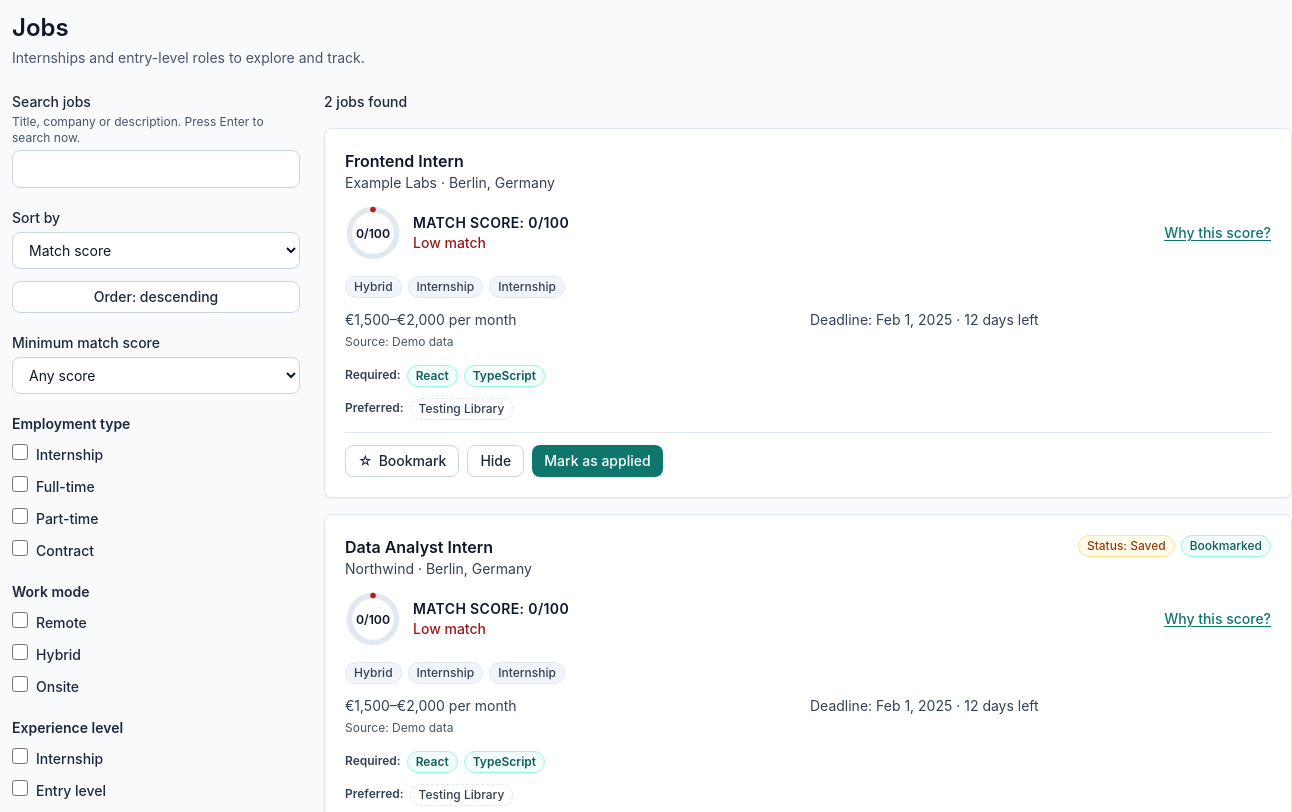
Test case: JobsPage › shows the envelope message when marking as applied returns 409
The width and height of the screenshot is (1292, 812).
Expected: the element "Frontend Intern" is shown, [324,128,1291,498]
Click the button "Mark as applied": {"x": 597, "y": 461} [532,445,663,477]
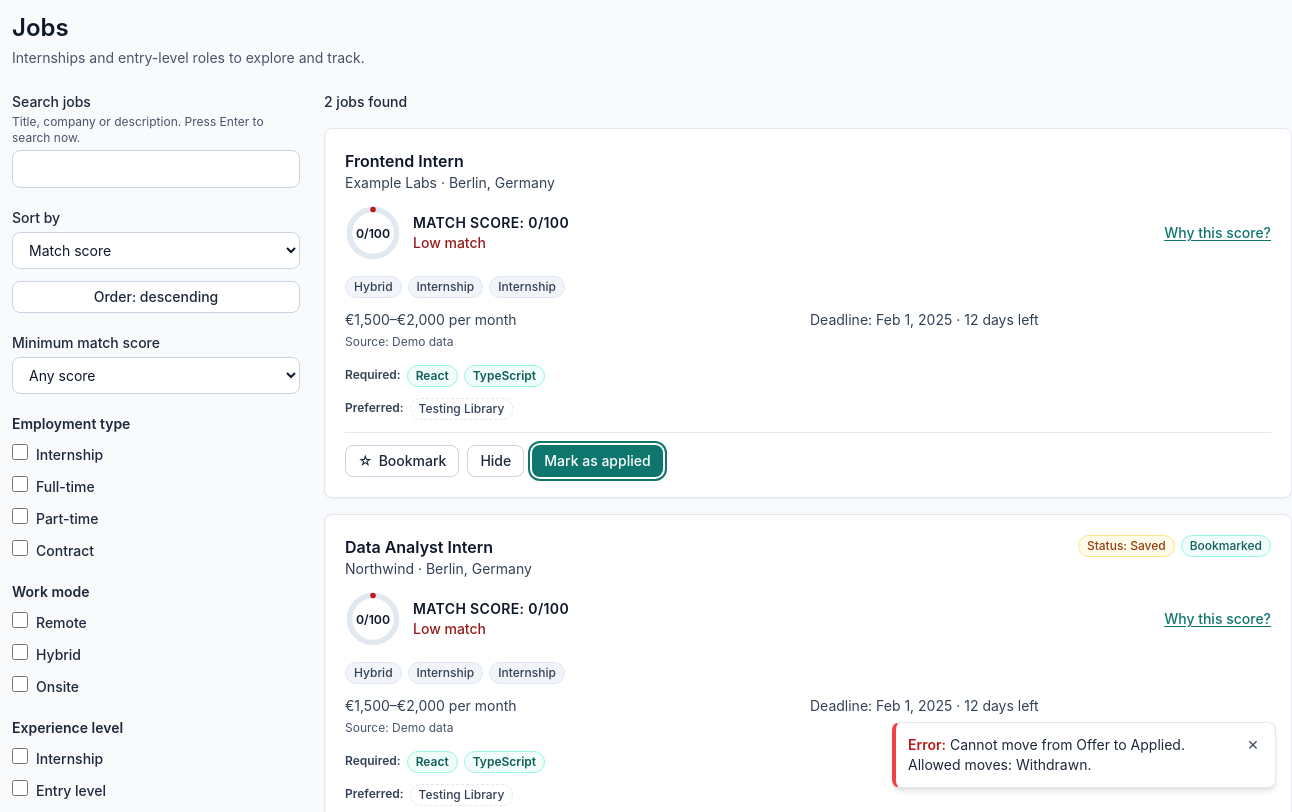
Expected: the text "Cannot move from Offer to Applied. Allowed moves: Withdrawn." is shown, [908,736,1185,773]
